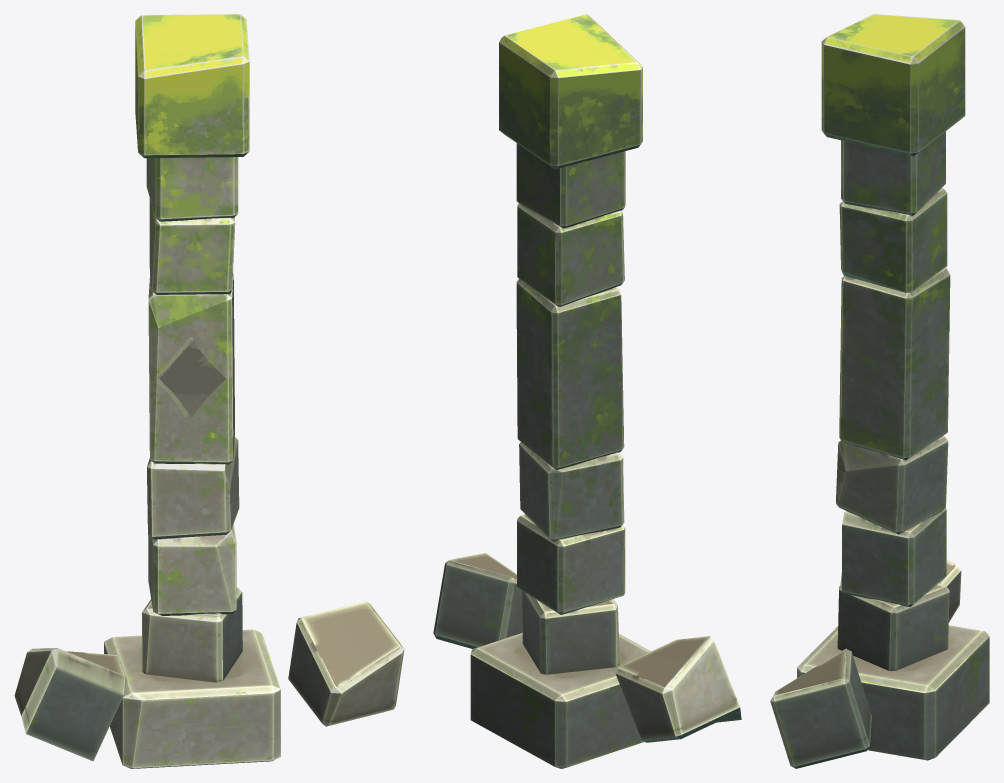
File: stone_pillar1.fbx
3 renders of one model, left to right at view 1: azimuth 30°, elevation 25°; view 2: azimuth 150°, elevation 25°; view 3: azimuth 270°, elevation 25°, orthographic. The views are drawn at different scales.
Visible parts, largest first — view 1: stone_pillar1; view 2: stone_pillar1; view 3: stone_pillar1.
Part boxes in pixels (<box>): stone_pillar1: <box>14,14,404,768</box>; stone_pillar1: <box>433,14,741,768</box>; stone_pillar1: <box>770,14,989,768</box>.
Size of the model in its own units: 167 by 343 by 98.43.
Materials: 1 (1 with a texture image).
